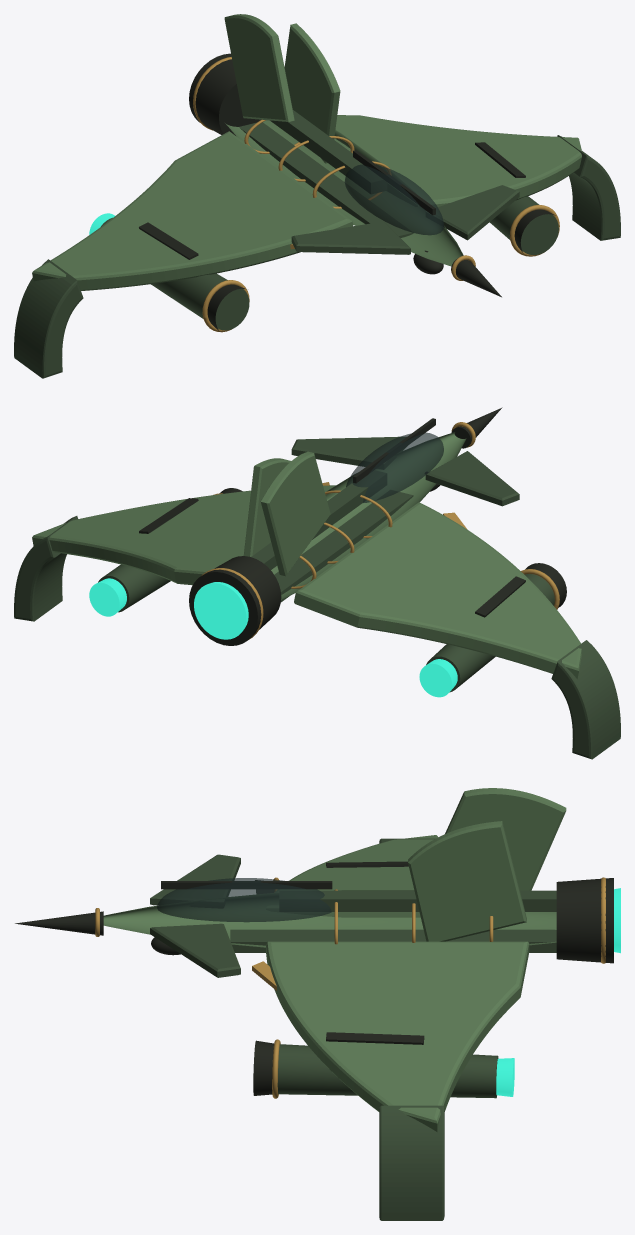
The model's file is raptor-interceptor-lod0.glb.
3 renders of one model, top to bottom at view 1: azimuth 30°, elevation 25°; view 2: azimuth 150°, elevation 25°; view 3: azimuth 270°, elevation 25°, orthographic. The views are drawn at different scales.
Visible parts, largest first — view 1: wing_panel (×2), wing_talon (×2), tailfin_port, fuselage, nacelle_shell (×2), tailfin_starboard, canopy, ventral_keel, engine_housing, canard_port, dorsal_spine, canard_starboard (+4 smaller); view 2: wing_panel (×2), wing_talon (×2), tailfin_port, fuselage, canopy, engine_housing, ventral_keel, nacelle_shell (×2), canard_port, main_thruster, canard_starboard, plasma_exhaust (×2) (+6 smaller); view 3: wing_panel (×2), tailfin_starboard, fuselage, wing_talon, canopy, tailfin_port, engine_housing, nacelle_shell, ventral_keel, dorsal_spine, canard_starboard, canard_port (+5 smaller).
Part boxes in pixels (x1=…): wing_panel (×2): x1=32, y1=115, x2=581, y2=290; wing_talon (×2): x1=14, y1=135, x2=620, y2=378; tailfin_port: x1=224, y1=14, x2=294, y2=121; fuselage: x1=225, y1=120, x2=463, y2=266; nacelle_shell (×2): x1=101, y1=196, x2=558, y2=330; tailfin_starboard: x1=284, y1=23, x2=340, y2=163; canopy: x1=344, y1=164, x2=443, y2=235; ventral_keel: x1=239, y1=122, x2=413, y2=237; engine_housing: x1=189, y1=53, x2=261, y2=135; canard_port: x1=291, y1=221, x2=410, y2=254; dorsal_spine: x1=270, y1=110, x2=386, y2=194; canard_starboard: x1=426, y1=185, x2=519, y2=240; wing_panel (×2): x1=32, y1=485, x2=581, y2=679; wing_talon (×2): x1=14, y1=516, x2=620, y2=759; tailfin_port: x1=260, y1=451, x2=330, y2=576; fuselage: x1=271, y1=432, x2=466, y2=599; canopy: x1=346, y1=432, x2=443, y2=502; engine_housing: x1=189, y1=556, x2=281, y2=645; ventral_keel: x1=274, y1=490, x2=413, y2=602; nacelle_shell (×2): x1=98, y1=564, x2=554, y2=692; canard_port: x1=425, y1=451, x2=519, y2=506; main_thruster: x1=194, y1=582, x2=248, y2=639; canard_starboard: x1=291, y1=436, x2=405, y2=469; plasma_exhaust (×2): x1=89, y1=578, x2=457, y2=697; wing_panel (×2): x1=266, y1=835, x2=529, y2=1131; tailfin_starboard: x1=408, y1=821, x2=526, y2=941; fuselage: x1=103, y1=890, x2=556, y2=947; wing_talon: x1=379, y1=1105, x2=444, y2=1220; canopy: x1=157, y1=878, x2=331, y2=922; tailfin_port: x1=445, y1=788, x2=566, y2=890; engine_housing: x1=556, y1=878, x2=613, y2=963; nacelle_shell: x1=277, y1=1044, x2=498, y2=1098; ventral_keel: x1=230, y1=929, x2=556, y2=952; dorsal_spine: x1=279, y1=890, x2=556, y2=911; canard_starboard: x1=150, y1=923, x2=240, y2=977; canard_port: x1=150, y1=854, x2=240, y2=908.
Size of the model in its own units: 17.59 by 7.31 by 14.88.
